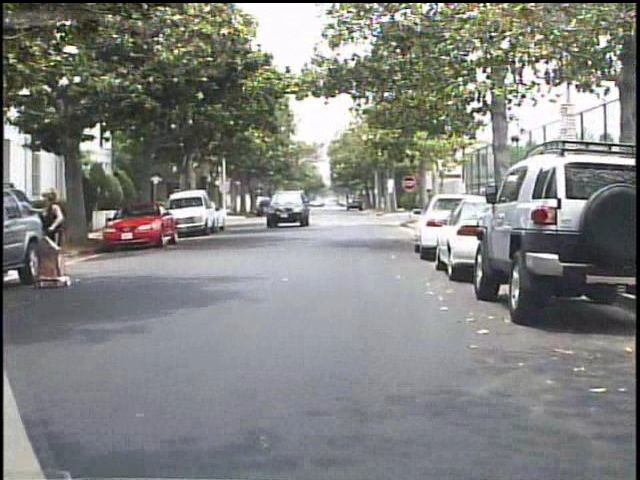person: (42, 185, 83, 291)
